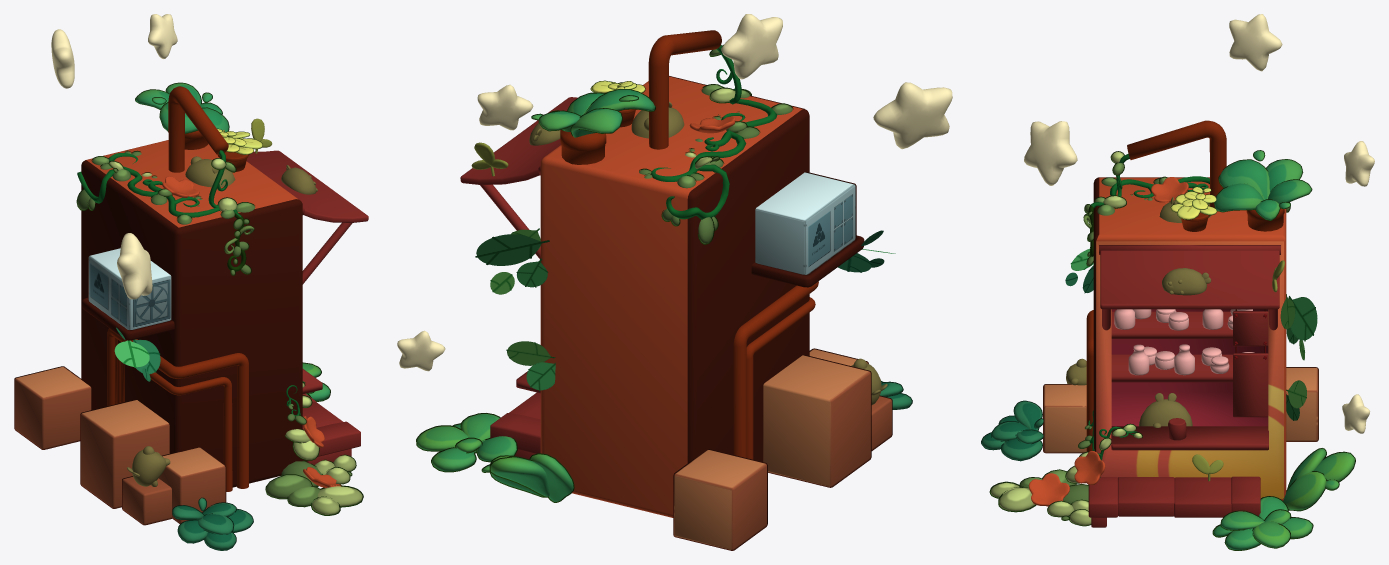
3 renders of one model, left to right at view 1: azimuth 30°, elevation 25°; view 2: azimuth 150°, elevation 25°; view 3: azimuth 270°, elevation 25°, orthographic. The views are drawn at different scales.
Visible parts, largest first — view 1: Juice_Box, Plant_3, Box.002, Pipeline, Air-conditioning, Box.003, Box.001, Veg_1, Plant_2, Box, Star, Board.001 (+11 smaller); view 2: Juice_Box, Box.002, Air-conditioning, Box.003, Plant_3, Plant_2, Pipeline, Veg_2, Star, Veg_3, Star.003, Star.001 (+8 smaller); view 3: Juice_Box, Plant_3, Plant_2, Veg_2, Box.001, Veg_3, Veg_1, Board.003, Star, Board.002, Star.003, Box.003 (+15 smaller).
Part boxes in pixels (<box>): Juice_Box: <box>81,86,368,487</box>; Plant_3: <box>76,150,363,515</box>; Box.002: <box>80,399,169,508</box>; Pipeline: <box>107,328,248,491</box>; Air-conditioning: <box>81,247,174,340</box>; Box.003: <box>14,366,91,449</box>; Box.001: <box>159,447,226,523</box>; Veg_1: <box>172,497,253,550</box>; Plant_2: <box>135,82,229,149</box>; Box: <box>122,476,172,525</box>; Star: <box>117,233,152,299</box>; Board.001: <box>302,421,360,464</box>; Juice_Box: <box>460,30,809,517</box>; Box.002: <box>763,354,871,487</box>; Air-conditioning: <box>751,171,864,287</box>; Box.003: <box>673,449,767,550</box>; Plant_3: <box>639,45,793,244</box>; Plant_2: <box>531,89,655,164</box>; Pipeline: <box>733,281,818,459</box>; Veg_2: <box>416,413,517,472</box>; Star: <box>873,82,952,149</box>; Veg_3: <box>481,453,574,502</box>; Star.003: <box>721,14,782,79</box>; Star.001: <box>477,84,533,130</box>; Juice_Box: <box>1093,120,1286,500</box>; Plant_3: <box>989,151,1290,526</box>; Plant_2: <box>1214,150,1312,231</box>; Veg_2: <box>1212,496,1313,550</box>; Box.001: <box>1043,384,1086,453</box>; Veg_3: <box>1283,448,1355,511</box>; Veg_1: <box>981,400,1043,461</box>; Board.003: <box>1174,477,1231,517</box>; Star: <box>1024,121,1077,185</box>; Board.002: <box>1118,477,1174,516</box>; Star.003: <box>1229,14,1282,71</box>; Box.003: <box>1286,367,1318,441</box>.
Size of the model in its own units: 326 by 415 by 352.
